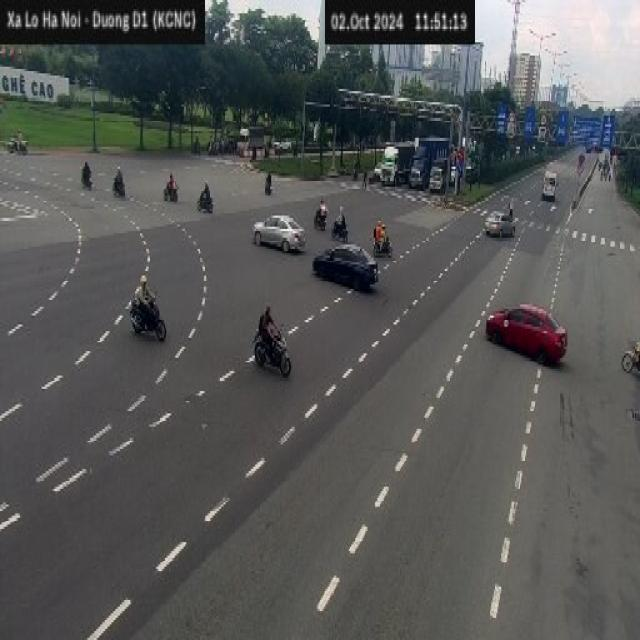car: (485, 302, 567, 364), (311, 242, 379, 291), (251, 214, 305, 254), (484, 209, 515, 235)
motorcycle: (251, 322, 291, 376), (129, 291, 166, 340), (620, 338, 639, 373), (371, 233, 391, 256), (332, 218, 348, 240), (196, 194, 212, 214), (162, 182, 178, 202), (312, 207, 326, 229)
person: (134, 273, 156, 329), (258, 304, 280, 360), (112, 164, 124, 196), (374, 218, 385, 249), (334, 204, 345, 233), (316, 198, 328, 222), (81, 160, 91, 187), (166, 171, 178, 193), (200, 178, 210, 202), (265, 171, 271, 193)
